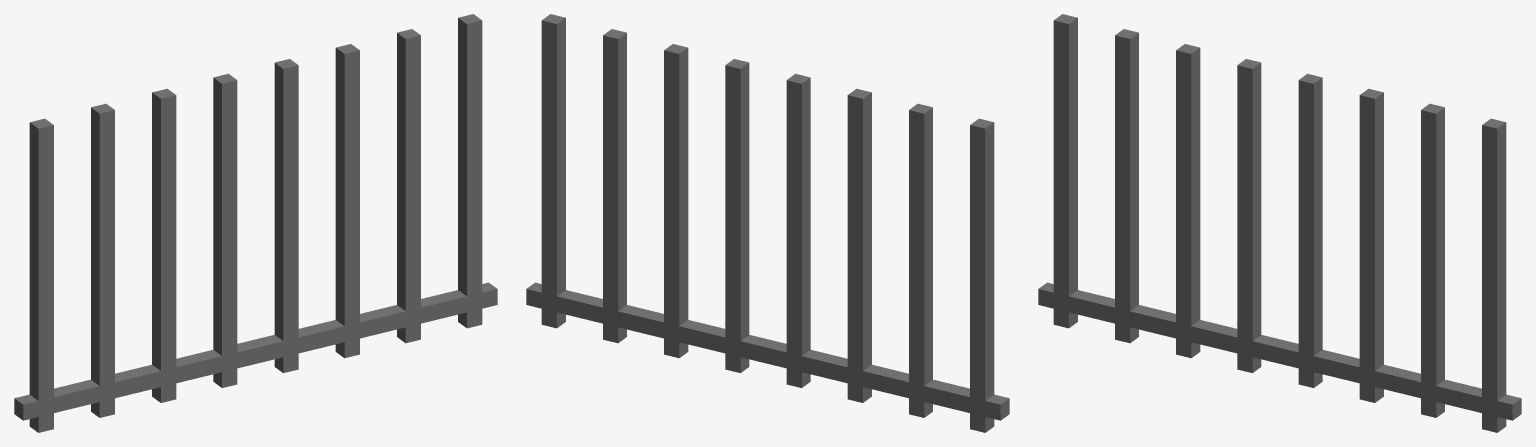
File: gate.obj
3 views of the same model, side by side, from view 1: azimuth 30°, elevation 25°; view 2: azimuth 150°, elevation 25°; view 3: azimuth 330°, elevation 25° (orthographic).
Size of the model in its own units: 3.1 by 1.9 by 0.1.
